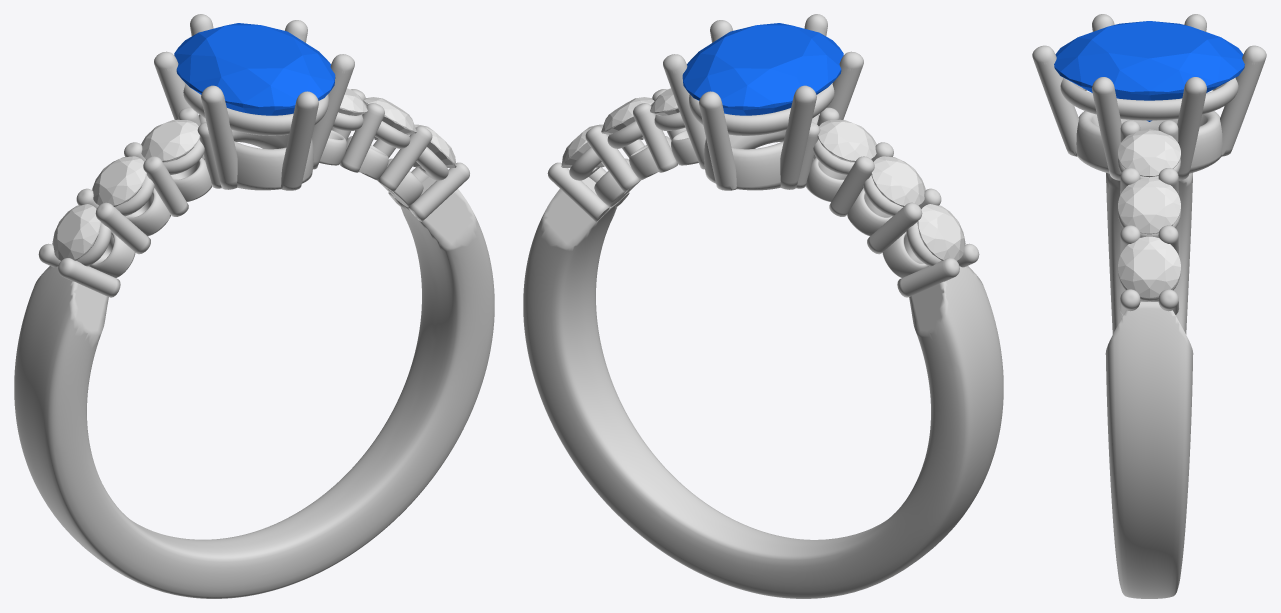
Rendered from bluesapphire-oval-platinum-6prong-straighttaperedband-7stone.glb.
3 views of the same model, side by side, from view 1: azimuth 30°, elevation 25°; view 2: azimuth 150°, elevation 25°; view 3: azimuth 270°, elevation 25° (orthographic).
Parts seen in each view (by area): view 1: metal, stone.001, side.012, side.013, side.014, side.016, side.015; view 2: metal, stone.001, side.012, side.013, side.014, side.016, side.015; view 3: metal, stone.001, side.015, side.016, side.017.
Part boxes in pixels (<box>): metal: <box>14,14,494,598</box>; stone.001: <box>174,23,335,115</box>; side.012: <box>52,204,100,260</box>; side.013: <box>92,156,146,206</box>; side.014: <box>141,119,200,162</box>; side.016: <box>363,97,416,139</box>; side.015: <box>413,124,456,167</box>; metal: <box>523,14,1003,598</box>; stone.001: <box>682,23,843,115</box>; side.012: <box>917,204,965,260</box>; side.013: <box>871,156,925,206</box>; side.014: <box>817,119,876,162</box>; side.016: <box>601,97,654,139</box>; side.015: <box>561,124,604,167</box>; metal: <box>1032,14,1266,598</box>; stone.001: <box>1054,21,1244,121</box>; side.015: <box>1118,236,1180,297</box>; side.016: <box>1118,178,1180,234</box>; side.017: <box>1118,129,1180,177</box>.
Size of the model in its own units: 20.5 by 23.41 by 9.29.
